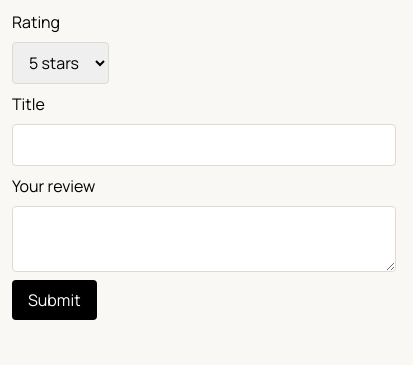
it: ReviewForm › shows the duplicate message on a 409 response
Type "Great frame" into the field labelled "Title" at (204, 145), box [12, 124, 396, 166]
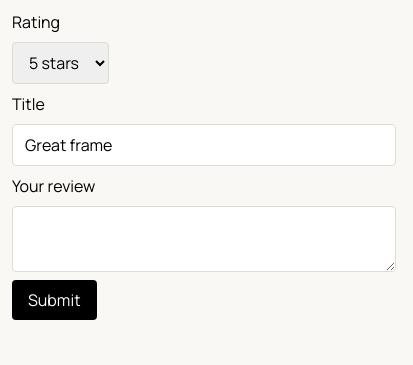
Type "Really happy with it" into the text box labelled "Your review" at (204, 239), box [12, 206, 396, 272]
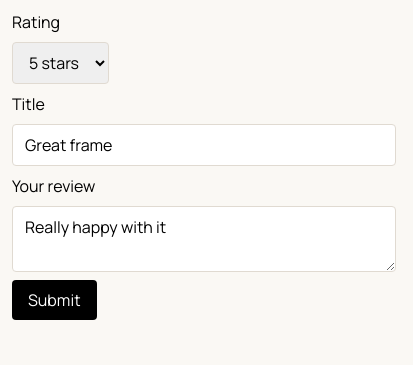
Click the button "Submit" at (54, 300), box [12, 280, 97, 320]
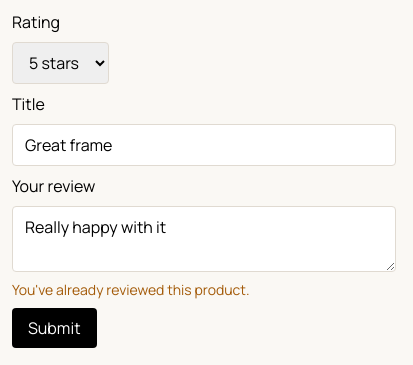
Now the text "You've already reviewed this product." is shown, box [12, 280, 250, 299]
